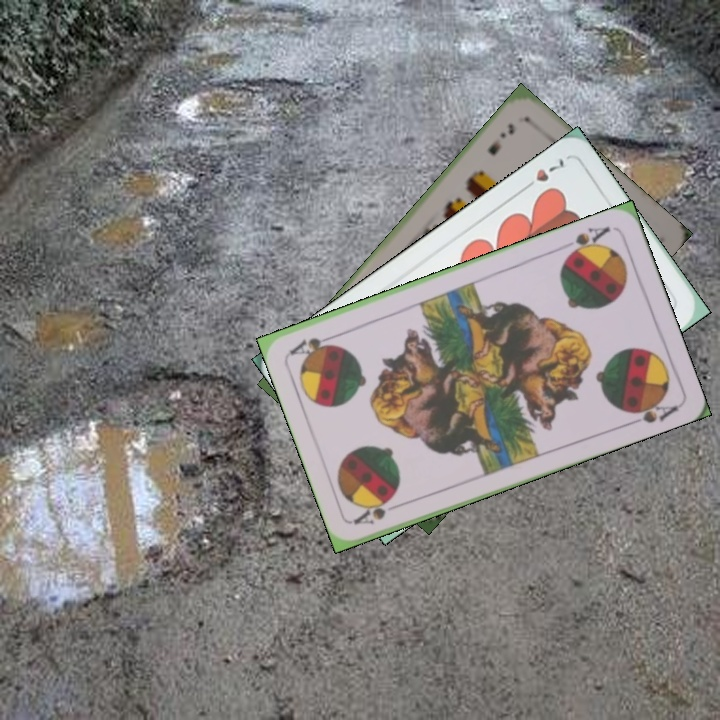E7: (483, 119, 518, 158)
H7: (518, 154, 569, 194)
SA: (558, 222, 613, 261), (350, 494, 407, 528)
